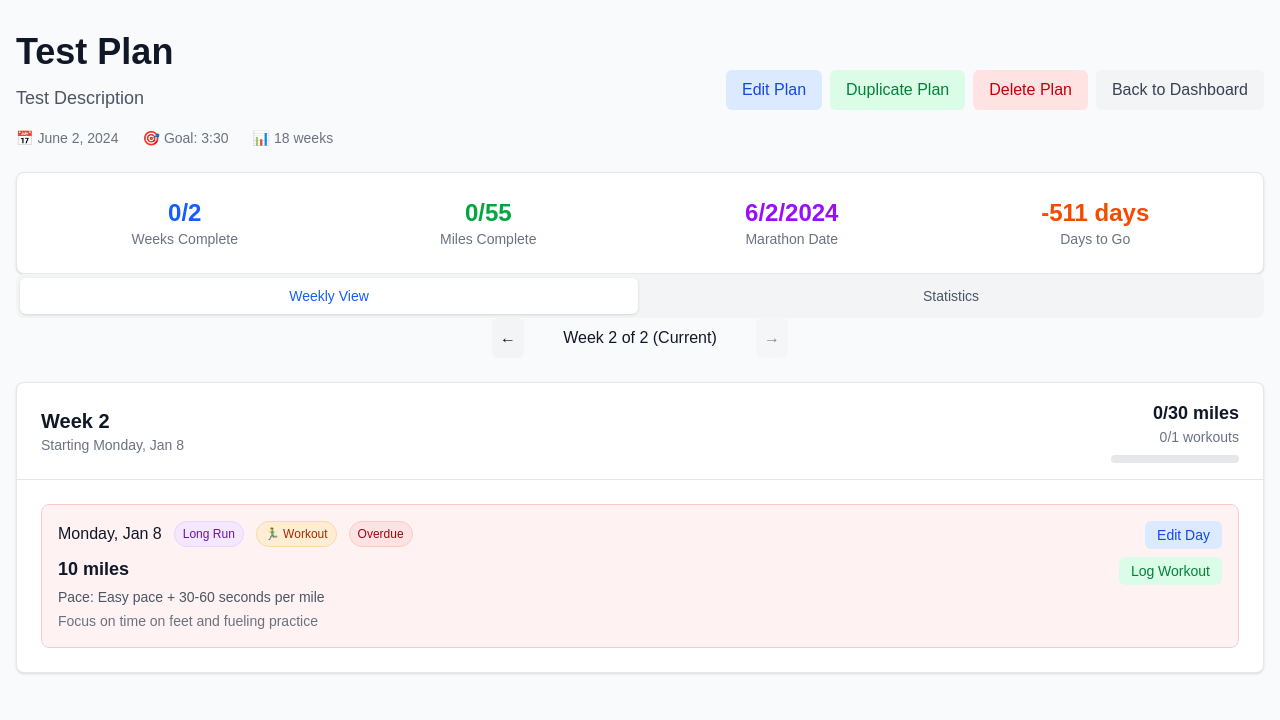
TrainingPlanView › shows edit form when edit button is clicked
Click the button "Edit Plan".
click(774, 90)  # box [726,70,822,110]
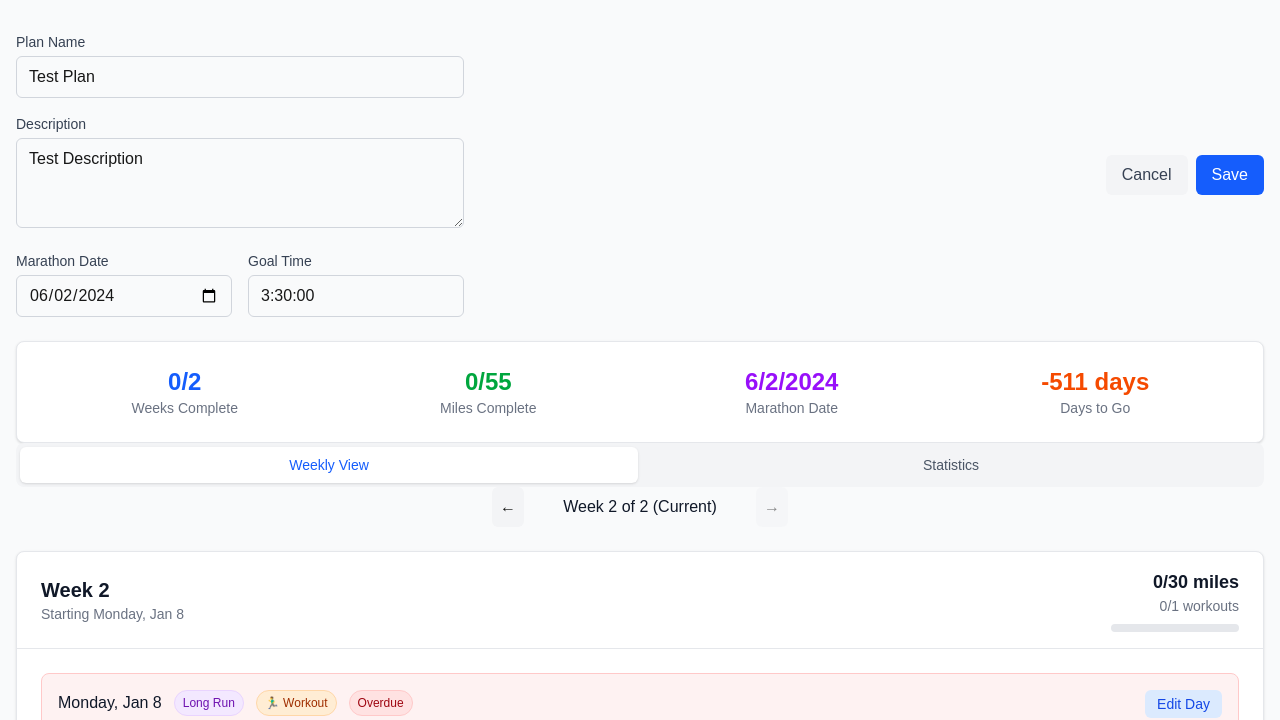
Now the field showing "Test Plan" is shown, box [16,56,464,98]
Now the text box showing "Test Description" is shown, box [16,138,464,228]
Now the button "Save" is shown, box [1196,154,1264,194]
